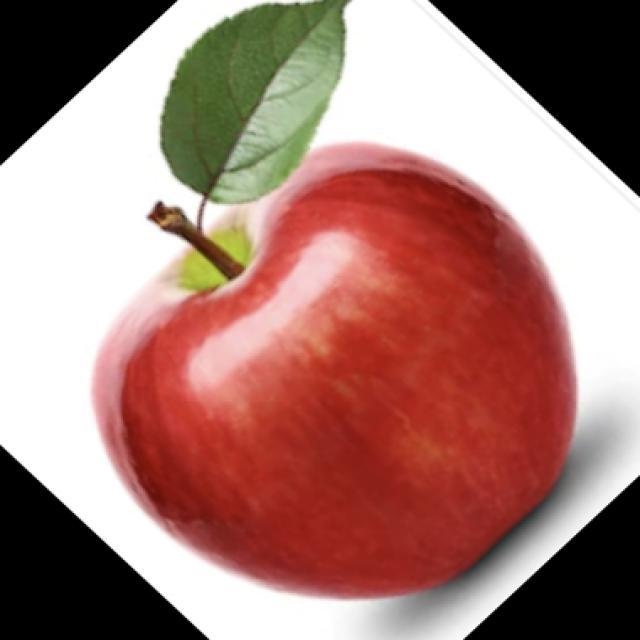Fresh Apple: (85, 134, 579, 602)
